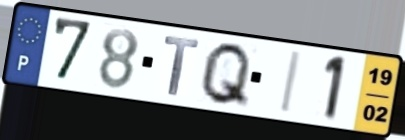1: (320, 55, 350, 125)
7: (52, 15, 94, 85)
8: (95, 24, 142, 92)
I: (277, 49, 305, 117)
Q: (197, 40, 255, 111)
T: (162, 34, 201, 99)
